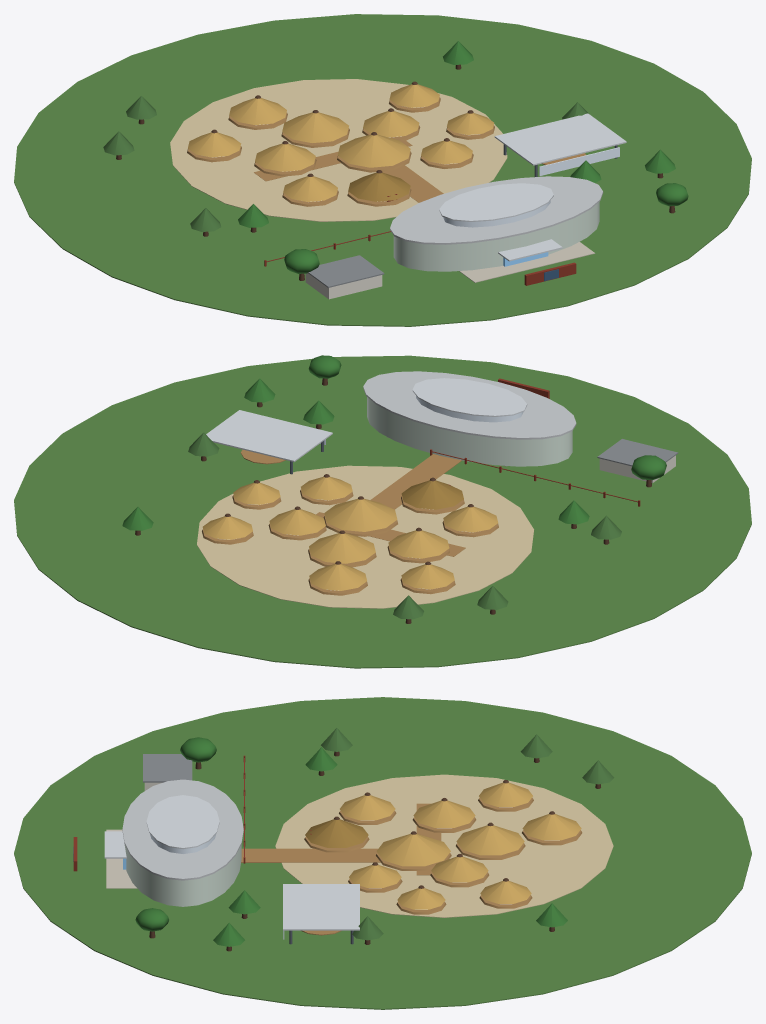
Rendered from amsa-prehistoric-site.glb.
3 views of the same model, one above another, from view 1: azimuth 30°, elevation 25°; view 2: azimuth 150°, elevation 25°; view 3: azimuth 270°, elevation 25° (orthographic).
Size of the model in its own units: 175 by 10.2 by 175.
